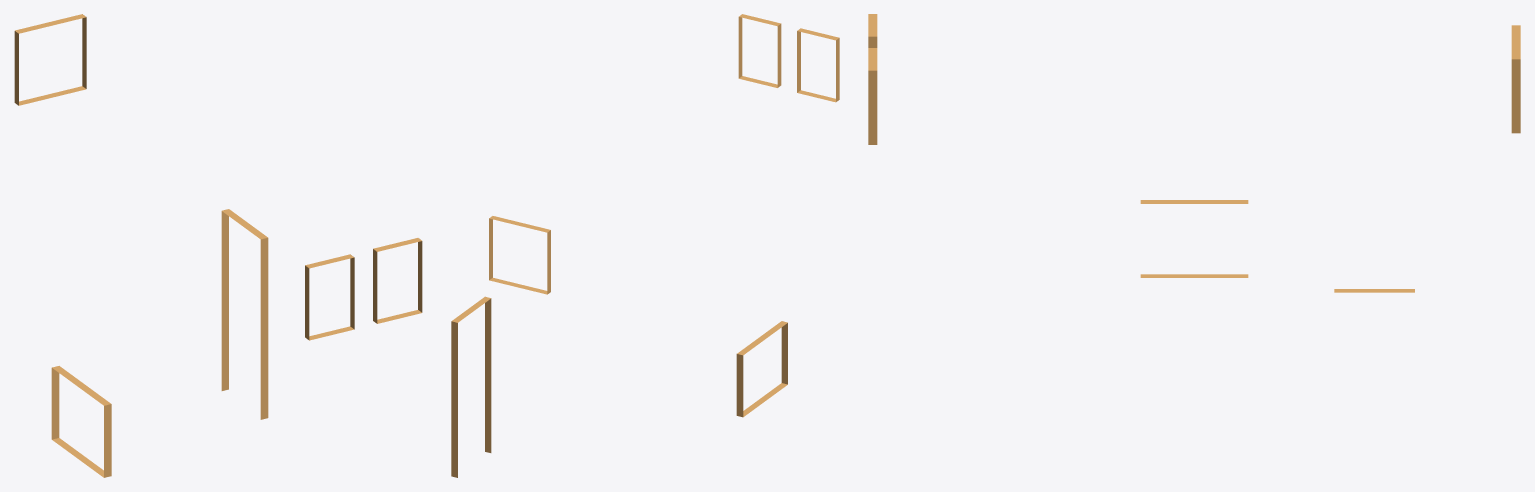
File: stage-8.glb
3 views of the same model, side by side, from view 1: azimuth 30°, elevation 25°; view 2: azimuth 150°, elevation 25°; view 3: azimuth 270°, elevation 25° (orthographic). The views are drawn at different scales.
Parts seen in each view (by area): view 1: Geom3D; view 2: Geom3D; view 3: Geom3D.
Boxes of the visible parts, <box> form: Geom3D: <box>14,14,422,477</box>; Geom3D: <box>451,14,839,477</box>; Geom3D: <box>868,14,1520,292</box>.
Bounding box in the file's own units: 3.43 × 4.57 × 7.29.
